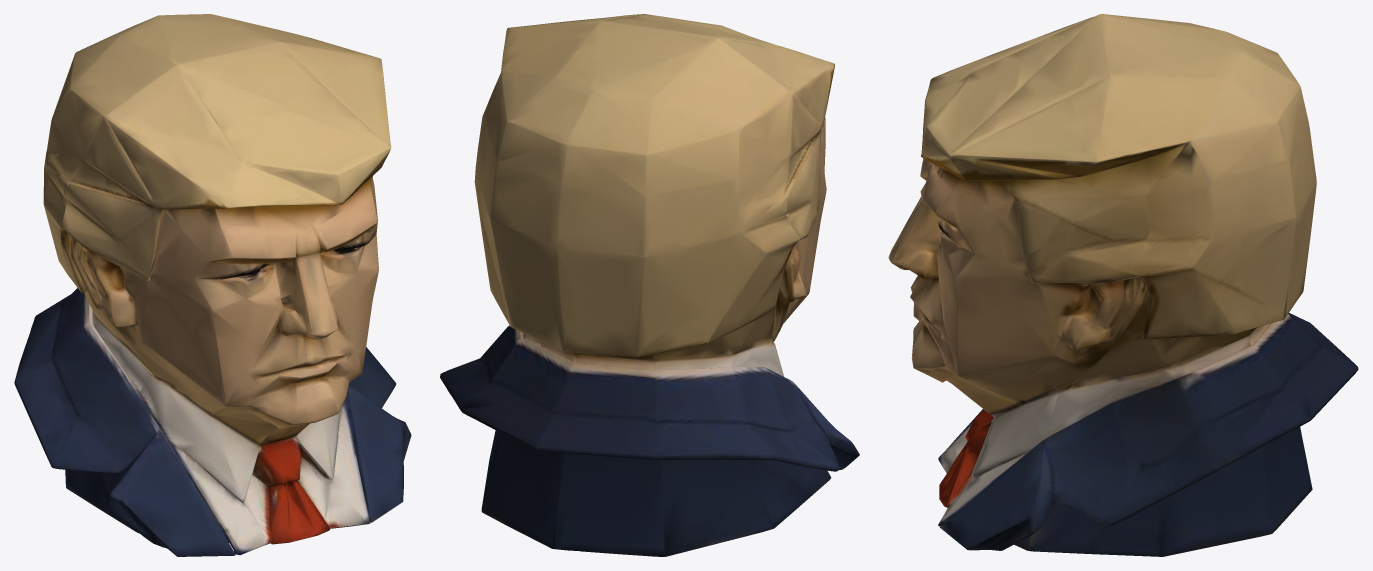
The model's file is left-front-model-mobile.glb.
3 views of the same model, side by side, from view 1: azimuth 30°, elevation 25°; view 2: azimuth 150°, elevation 25°; view 3: azimuth 270°, elevation 25° (orthographic). The views are drawn at different scales.
Visible parts, largest first — view 1: Left Front Model Mobile; view 2: Left Front Model Mobile; view 3: Left Front Model Mobile.
Boxes of the visible parts, x1,y1,x2,y2 form: Left Front Model Mobile: (14,14,411,556); Left Front Model Mobile: (440,14,859,556); Left Front Model Mobile: (888,14,1358,556).
Size of the model in its own units: 0.3896 by 0.4666 by 0.4385.
Materials: 1 (1 with a texture image).
